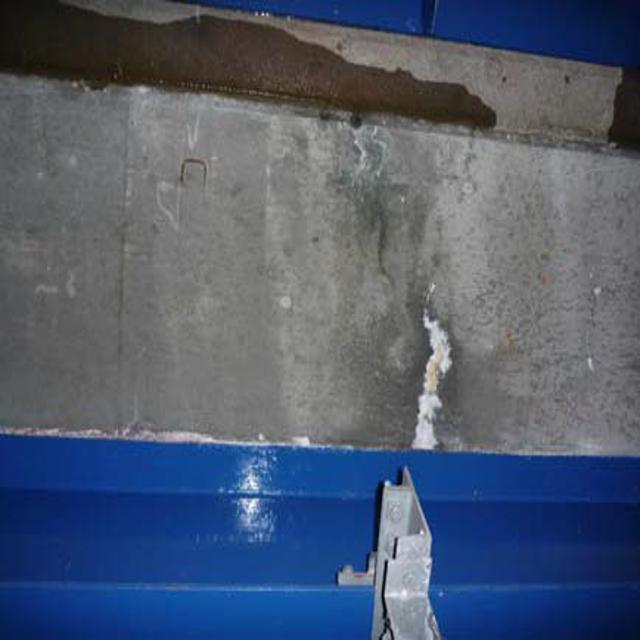freelime: (416, 304, 463, 467)
leakage: (14, 8, 502, 138)
